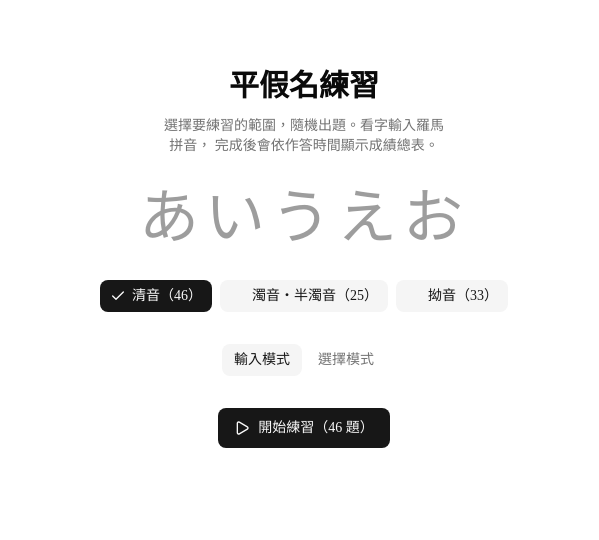
Test case: practice flow › choice mode marks a wrong tap and still shows the correct reading
The image size is (599, 540).
Click the button "選擇模式": (346, 360) [306, 344, 386, 376]
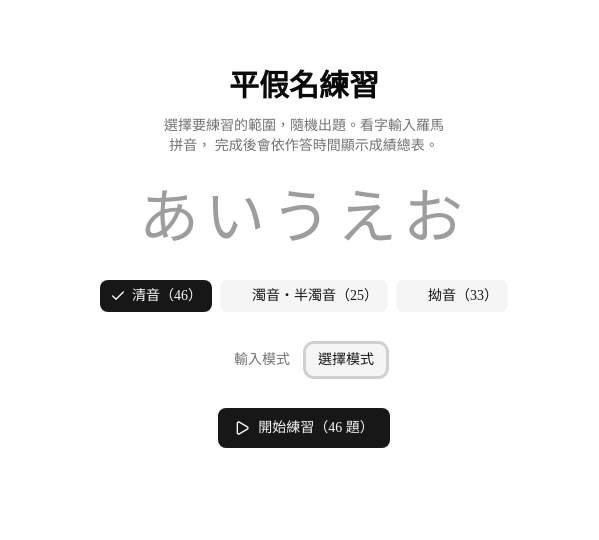
Click the button "開始練習（46 題）": (304, 428) [218, 408, 390, 448]
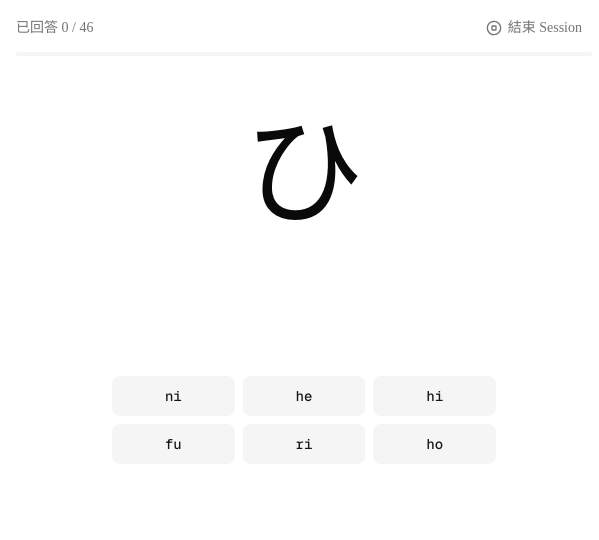
Click the button "ni": (173, 396) [112, 376, 235, 416]
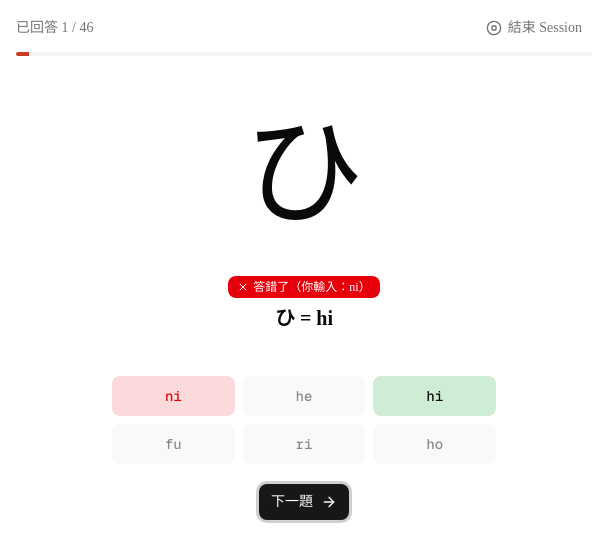
Expected: the text "答錯了（你輸入：ni）" is shown, [228, 276, 380, 298]
